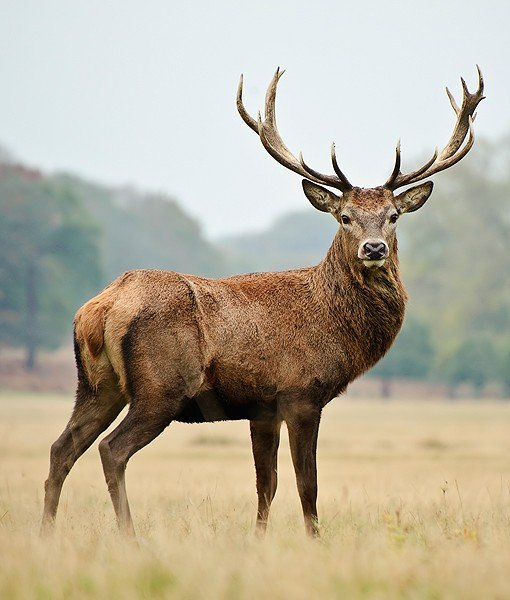Deer: (38, 58, 487, 543)
